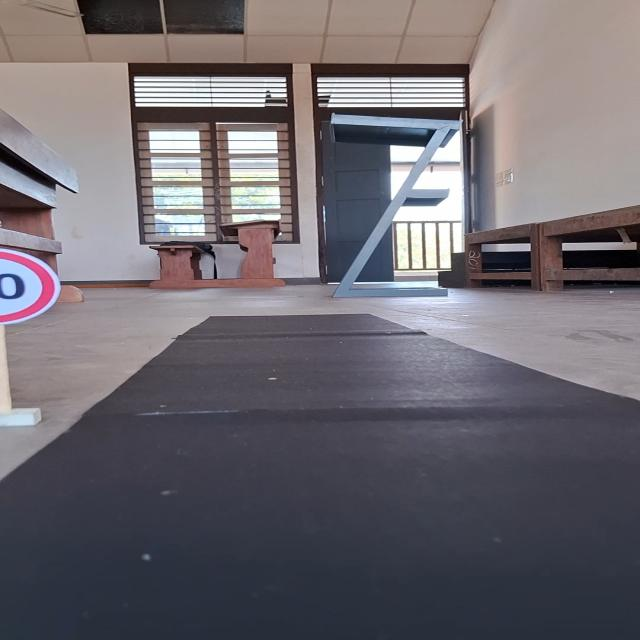Reject: (0, 242, 67, 331)
